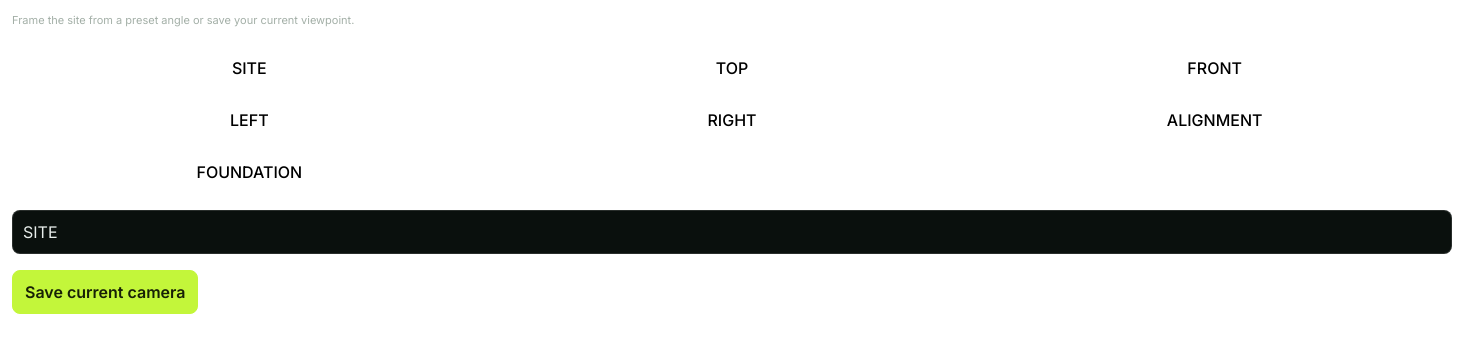
Test: saves a trimmed camera name and reports completion
Replace the text in the field named "Camera view name" with "  North view  " at (732, 232), box [12,210,1452,254]
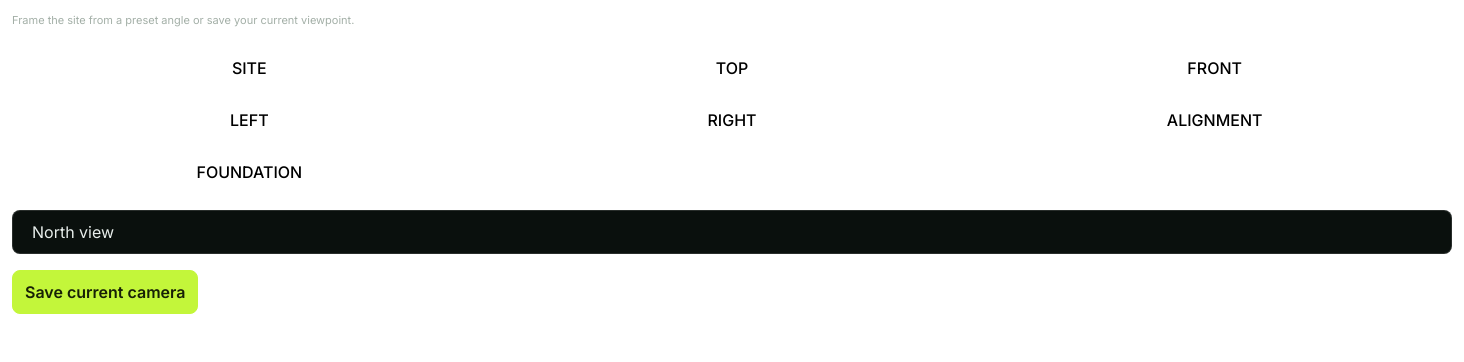
Click the button "Save current camera" at (105, 292), box [12,270,198,314]
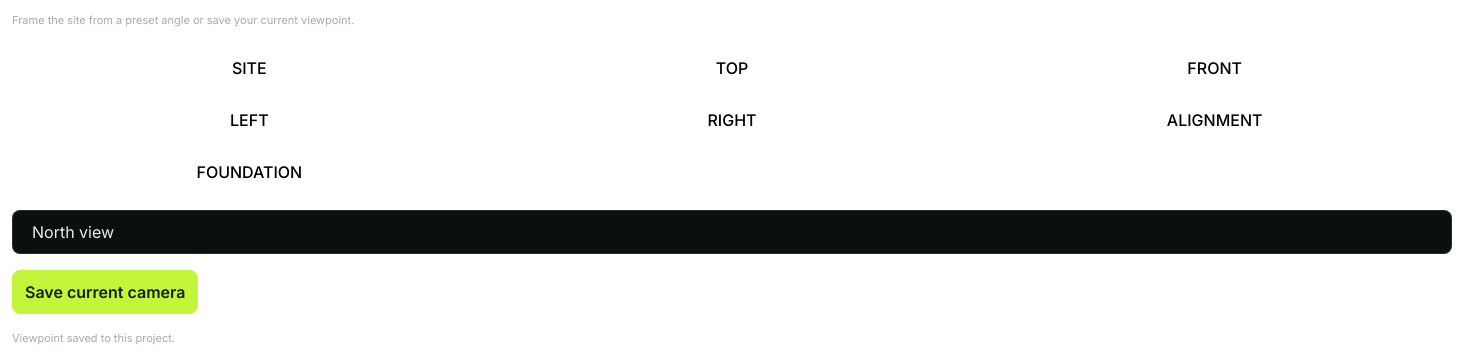
Expected: the message shows "Viewpoint saved", [12,331,175,345]
